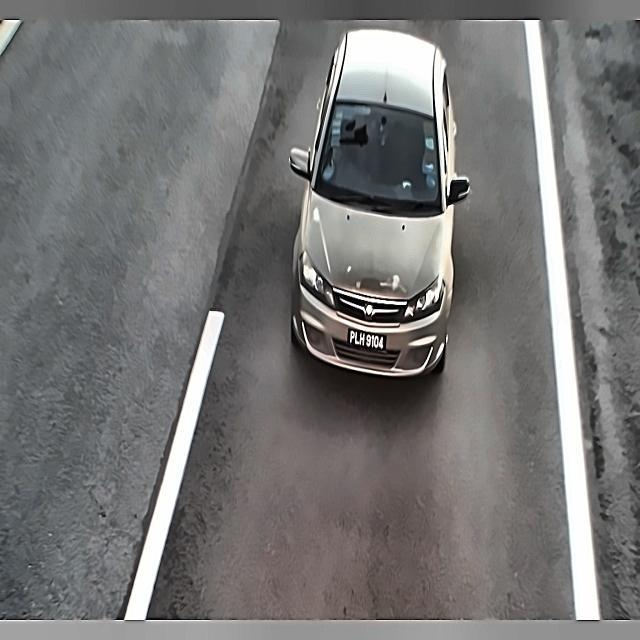car: (343, 317, 389, 359)
